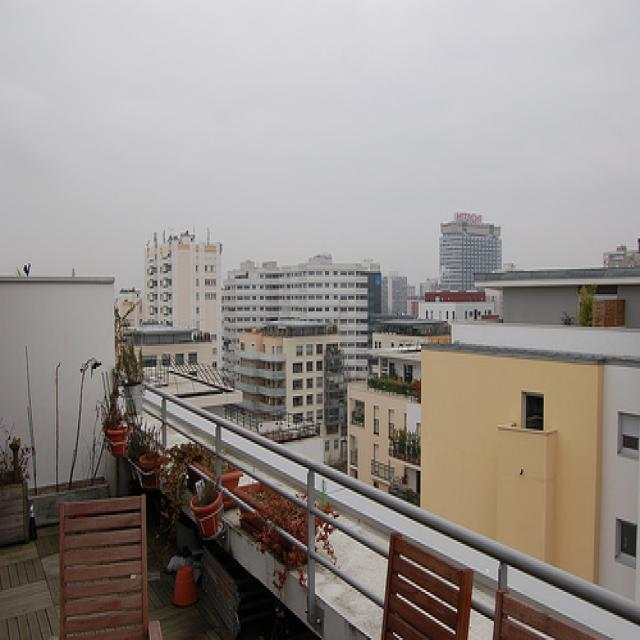chair: (59, 493, 164, 639), (380, 530, 476, 639)
pottedplant: (24, 343, 112, 528), (154, 441, 245, 570), (237, 478, 338, 591), (1, 418, 32, 549), (106, 370, 130, 458), (191, 478, 221, 541), (139, 432, 164, 493)
